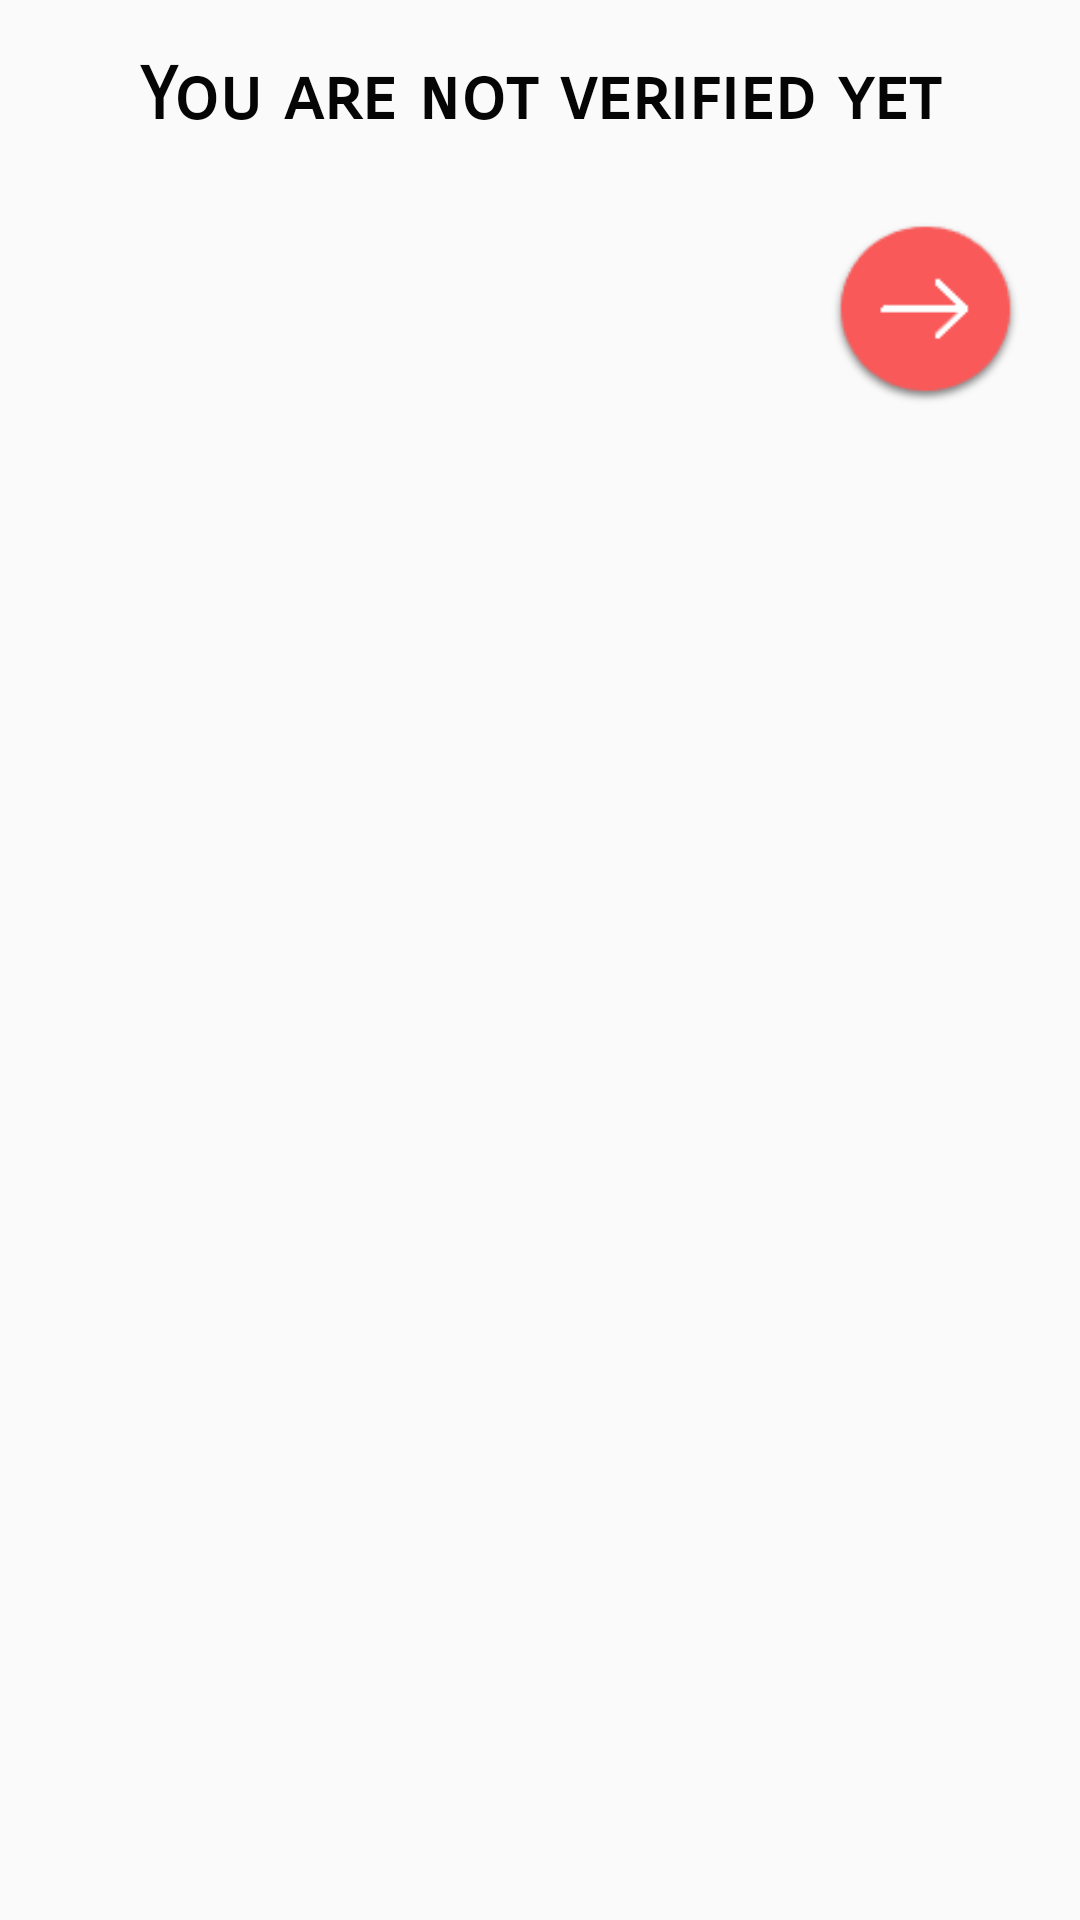

Where icons sit on this 1080x1920 app screen, as Rect(x1, y1, x2, y2):
right arrow: Rect(837, 226, 1014, 399)
